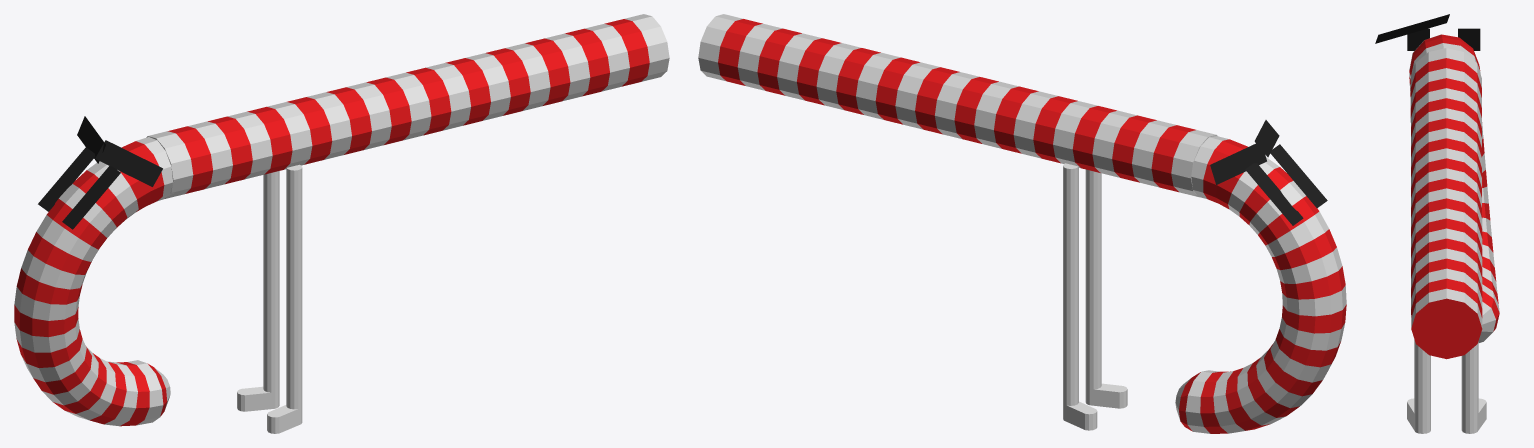
File: bengala.fbx
3 renders of one model, left to right at view 1: azimuth 30°, elevation 25°; view 2: azimuth 150°, elevation 25°; view 3: azimuth 270°, elevation 25°, orthographic. The views are drawn at different scales.
Parts seen in each view (by area): view 1: Torus.001, Cylinder.001, Cylinder.000, Plane.003, Plane.001, Plane; view 2: Torus.001, Cylinder.000, Cylinder.001, Plane.002, Plane.001, Plane; view 3: Torus.001, Cylinder.000, Cylinder.001, Plane.003, Plane, Plane.001.
Part boxes in pixels (box(x1,y1,x2,y2)): Torus.001: box(14, 14, 669, 426); Cylinder.001: box(267, 164, 302, 433); Cylinder.000: box(237, 171, 279, 411); Plane.003: box(95, 140, 162, 186); Plane.001: box(62, 166, 120, 229); Plane: box(38, 147, 95, 211); Torus.001: box(698, 14, 1346, 433); Cylinder.000: box(1063, 163, 1097, 430); Cylinder.001: box(1085, 169, 1127, 408); Plane.002: box(1210, 141, 1266, 184); Plane.001: box(1270, 144, 1327, 208); Plane: box(1245, 163, 1303, 225); Torus.001: box(1409, 34, 1499, 359); Cylinder.000: box(1461, 341, 1486, 433); Cylinder.001: box(1407, 339, 1430, 433); Plane.003: box(1375, 14, 1449, 43); Plane: box(1458, 28, 1480, 50); Plane.001: box(1407, 28, 1429, 50).
Size of the model in its own units: 283 by 135 by 54.12.
